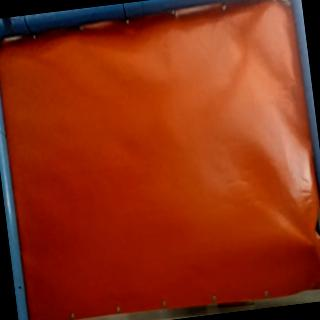Hit-hRxx: (304, 236, 318, 252)
